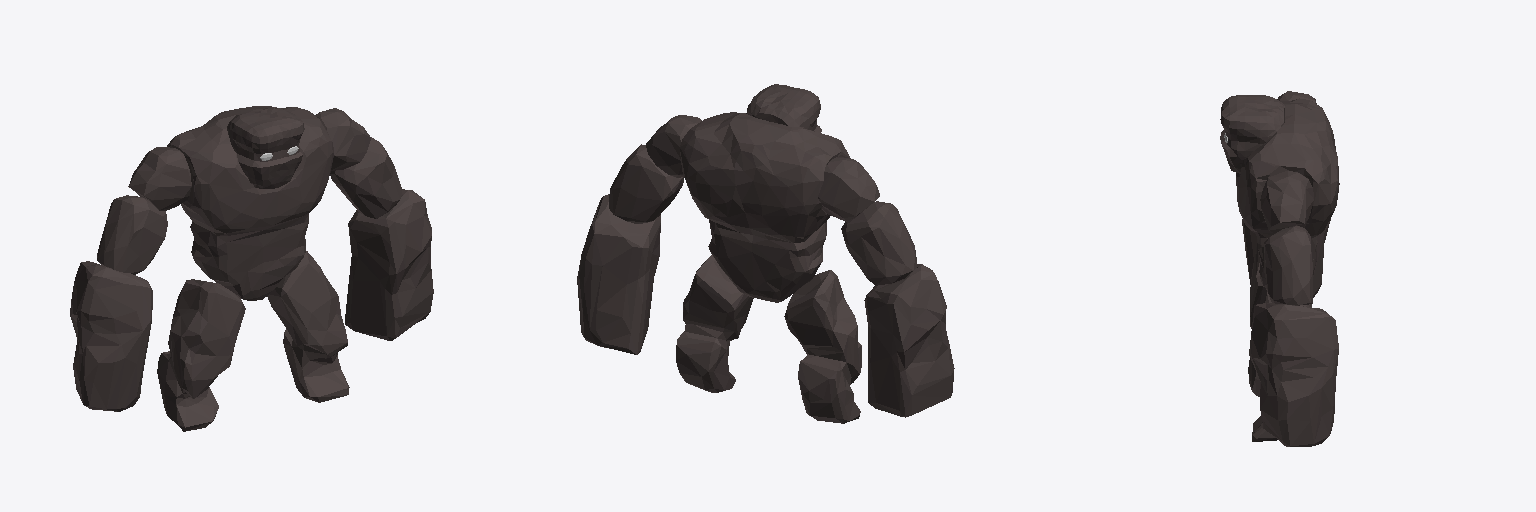
Rendered from Mole.obj.
3 views of the same model, side by side, from view 1: azimuth 30°, elevation 25°; view 2: azimuth 150°, elevation 25°; view 3: azimuth 270°, elevation 25° (orthographic).
Parts seen in each view (by area): view 1: hands&leg.001_ice.003, torso.001_ice.005, head.001_ice.004; view 2: hands&leg.001_ice.003, torso.001_ice.005, head.001_ice.004; view 3: hands&leg.001_ice.003, torso.001_ice.005, head.001_ice.004.
Part boxes in pixels (x1,y1,x2,y2): hands&leg.001_ice.003: (70, 108, 433, 431); torso.001_ice.005: (167, 106, 333, 300); head.001_ice.004: (227, 108, 304, 188); hands&leg.001_ice.003: (577, 115, 954, 423); torso.001_ice.005: (680, 112, 849, 302); head.001_ice.004: (746, 84, 821, 132); hands&leg.001_ice.003: (1242, 91, 1338, 446); torso.001_ice.005: (1236, 98, 1339, 291); head.001_ice.004: (1220, 95, 1284, 173).
Size of the model in its own units: 7.96 by 6.41 by 2.29.